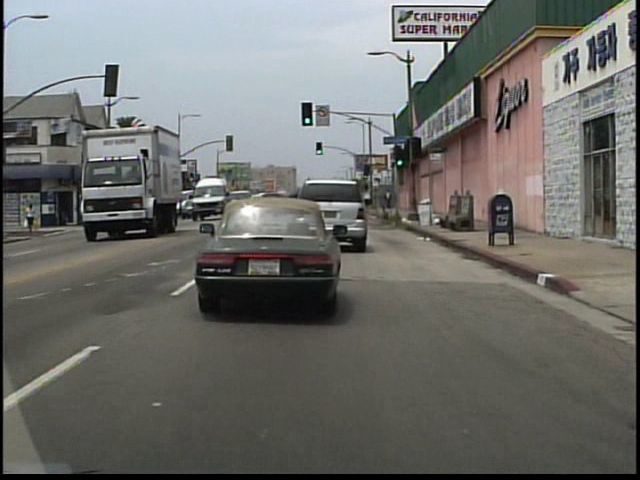person: (27, 204, 38, 233), (384, 188, 393, 210)
